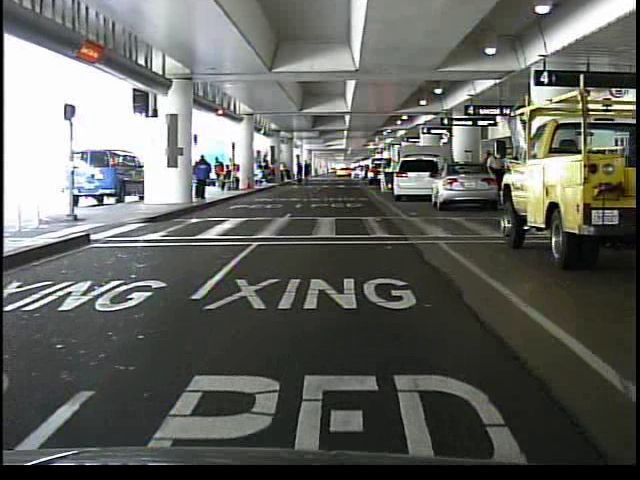person: (190, 152, 213, 204)
